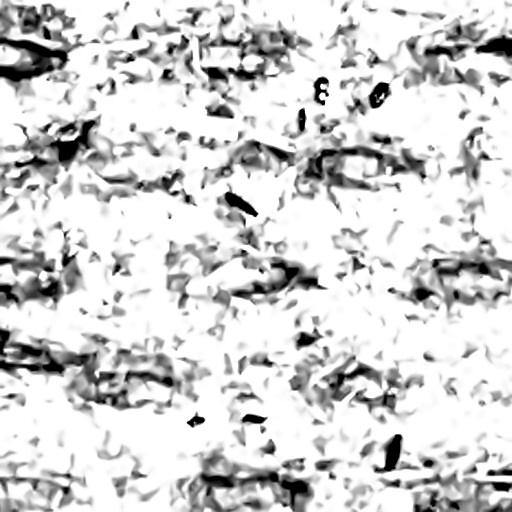egg: (225, 192, 257, 216), (476, 37, 511, 54), (385, 434, 399, 470), (370, 83, 389, 107), (314, 77, 328, 104), (187, 413, 204, 426), (242, 414, 266, 423), (298, 108, 305, 131)
